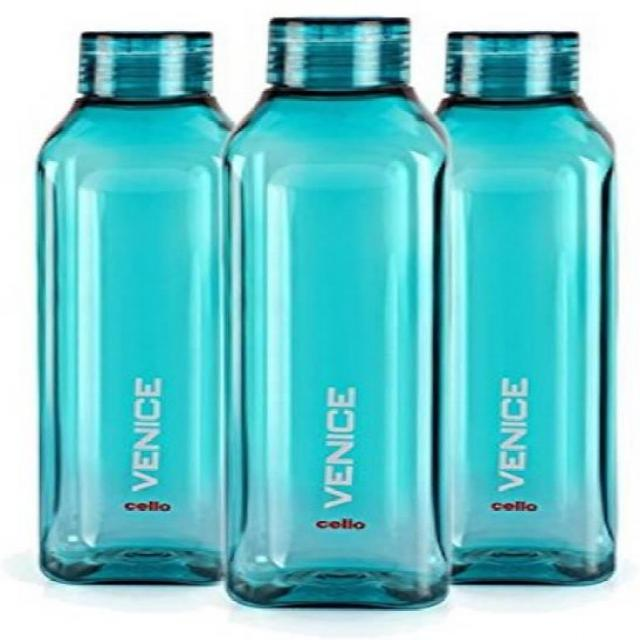plastic_bottle: (224, 15, 452, 609), (40, 28, 243, 582), (427, 32, 610, 585)
